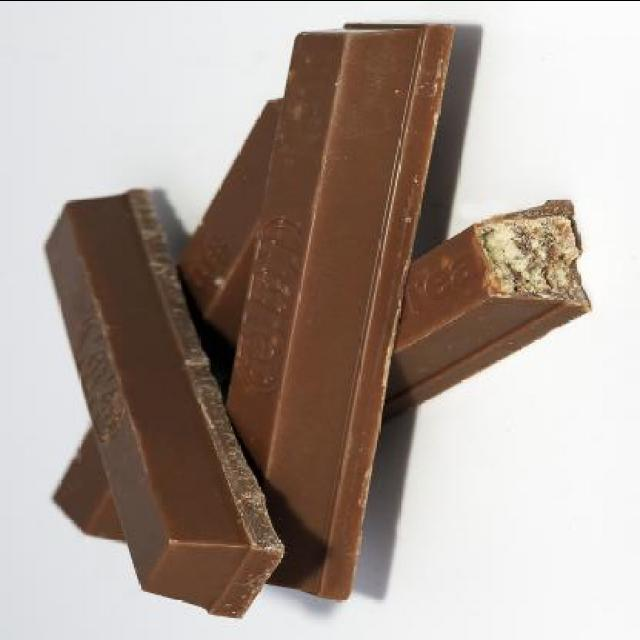Chocolate bar packaged: (212, 18, 463, 627), (36, 186, 294, 617)
